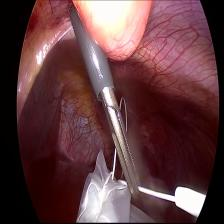Grasper: (99, 90, 144, 198)
Specimen Bag: (68, 146, 142, 224)
